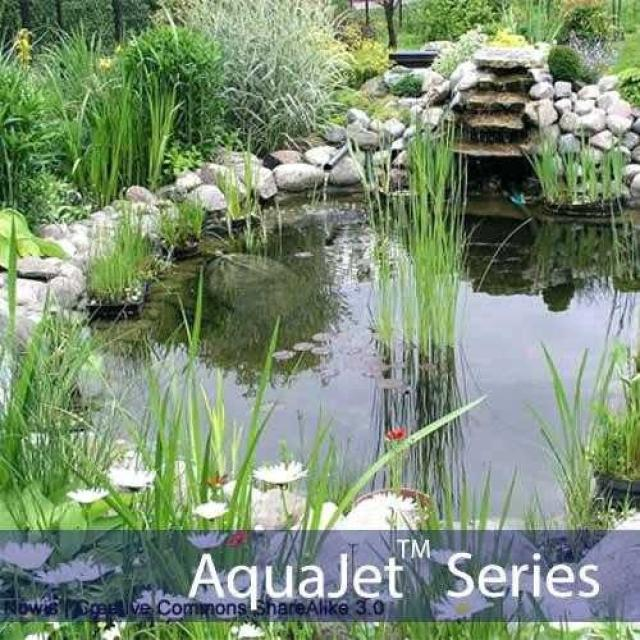Ponds: (1, 41, 640, 565)
